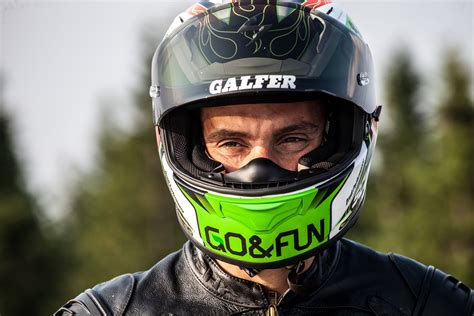com_capacete: (149, 1, 384, 270)
